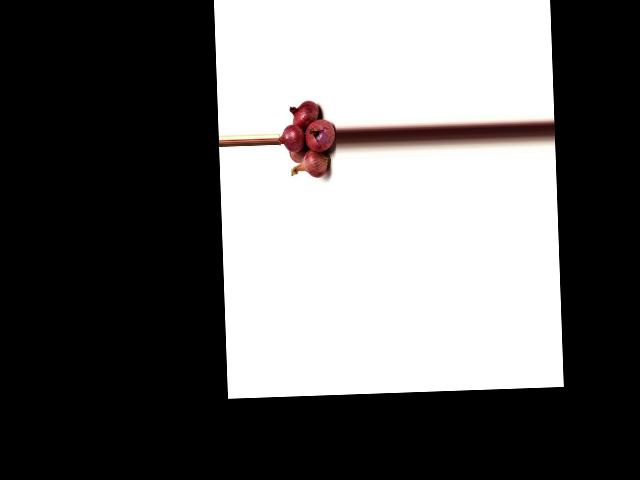onion: (304, 118, 336, 158)
